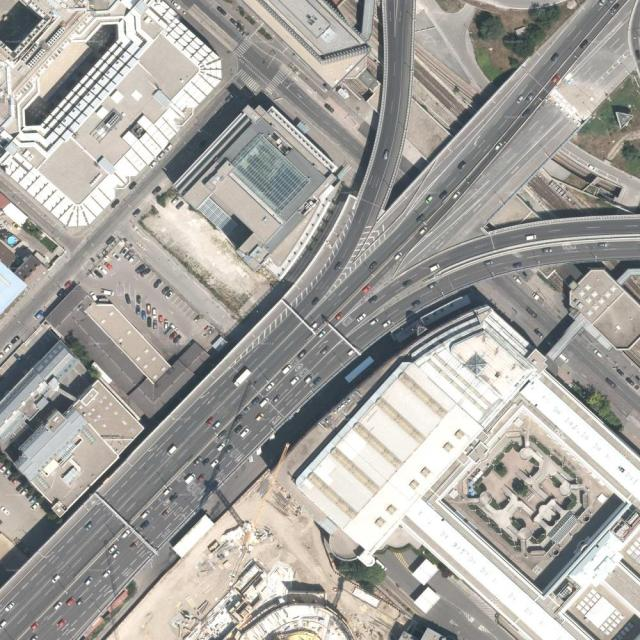building: (291, 289, 547, 557), (433, 399, 629, 594), (5, 373, 149, 518), (519, 375, 640, 502), (44, 284, 157, 400), (244, 0, 373, 89), (84, 293, 172, 384), (0, 192, 62, 313), (127, 335, 213, 420), (564, 263, 626, 326), (592, 291, 640, 354)
dryland: (103, 468, 416, 640), (138, 185, 276, 320)
greenland: (468, 2, 579, 83)
metalled_road: (223, 25, 394, 180), (69, 226, 230, 381), (120, 222, 239, 337), (545, 320, 640, 451), (473, 246, 576, 348), (408, 0, 490, 101), (413, 570, 525, 640), (179, 68, 261, 151), (375, 535, 434, 600), (477, 1, 566, 9)
